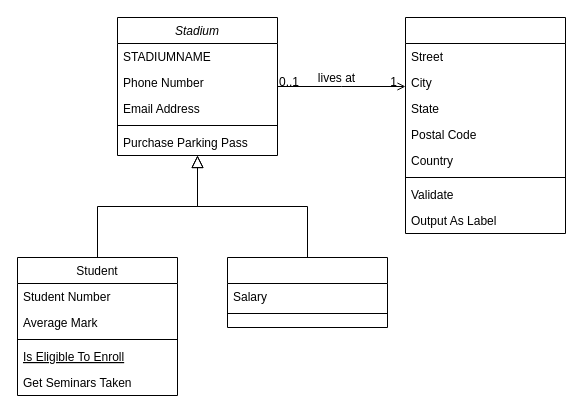
Image size: 583x416. Some labels were removed from this diagram. The shapes that lost their labels are listed below. From the top down, each one's box as (x1, y1, x2, y2) in pixels, then its label:
(404, 16, 566, 234): Address
(226, 256, 388, 328): Professor
